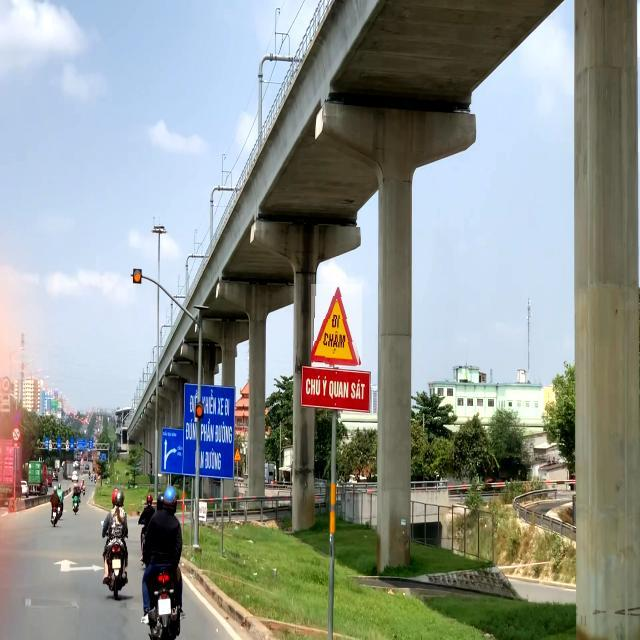W-245a: (311, 284, 362, 367)
